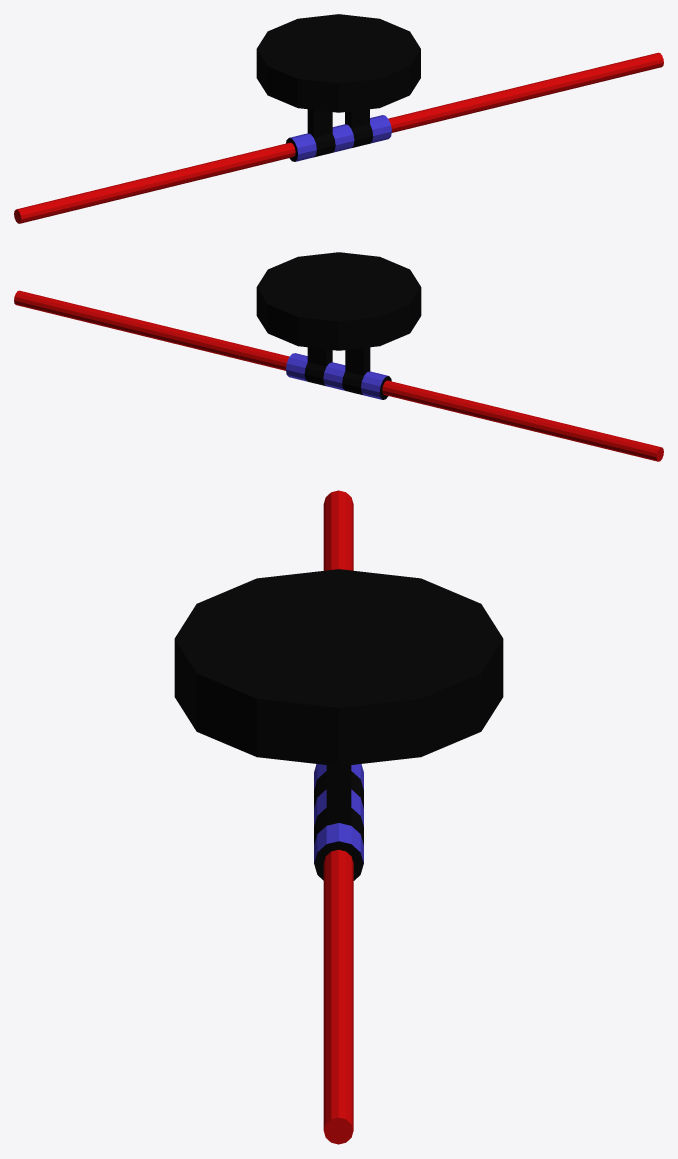
Rendered from DoubleLaser.fbx.
The picture shows the model from 3 angles, top to bottom: view 1: azimuth 30°, elevation 25°; view 2: azimuth 150°, elevation 25°; view 3: azimuth 270°, elevation 25°; orthographic projection. The views are drawn at different scales.
Parts seen in each view (by area): view 1: Sphere; view 2: Sphere; view 3: Sphere.
Part boxes in pixels (<box>): Sphere: <box>14,14,663,223</box>; Sphere: <box>14,252,663,461</box>; Sphere: <box>174,490,503,1144</box>.
Bounding box in the file's own units: 5725 × 860 × 1268.
